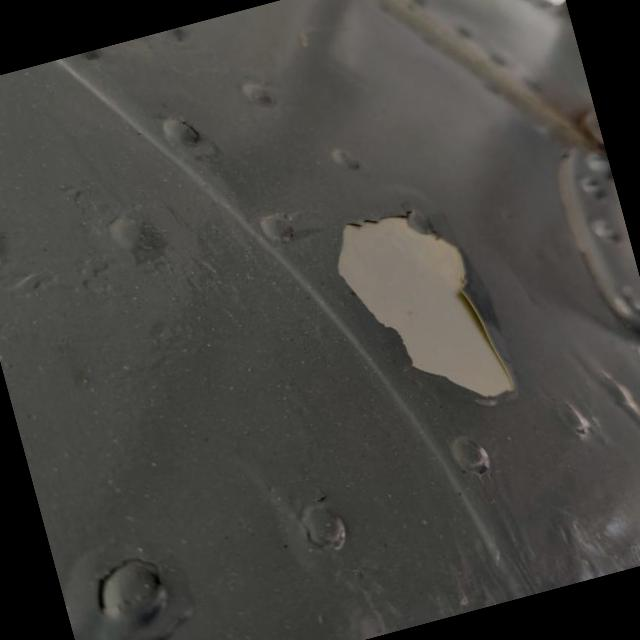paint-off: (308, 170, 537, 448)
